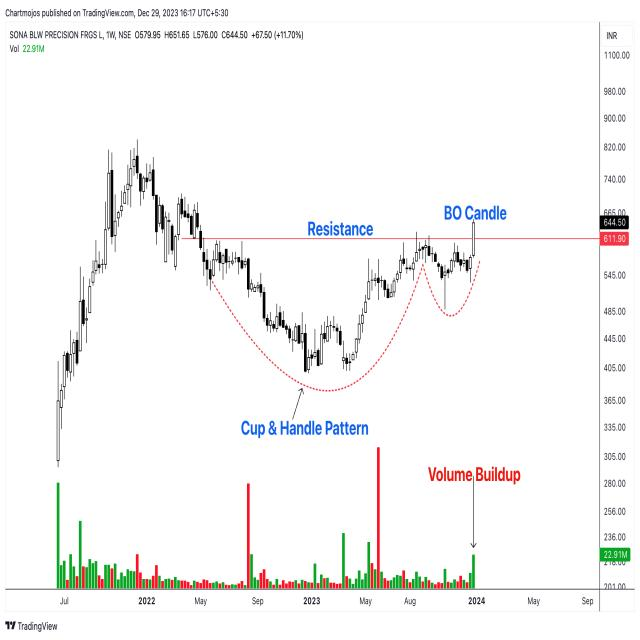Cup-and-handle: (194, 240, 481, 380)
